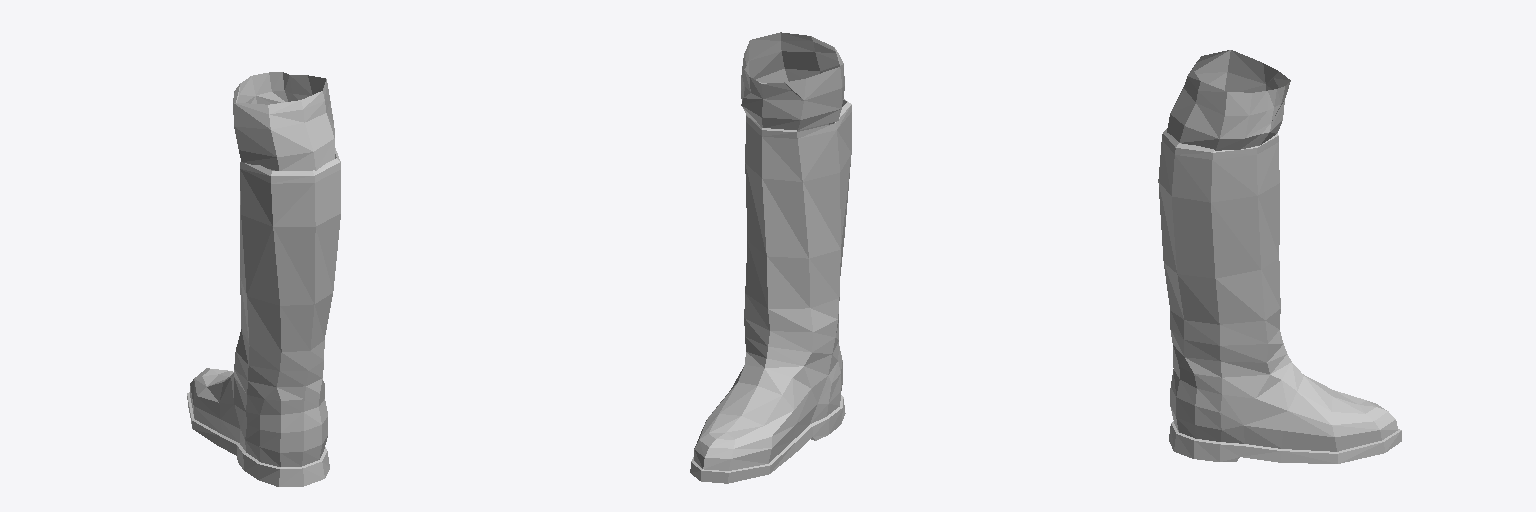
The model's file is zDerJames.obj.
3 renders of one model, left to right at view 1: azimuth 30°, elevation 25°; view 2: azimuth 150°, elevation 25°; view 3: azimuth 270°, elevation 25°, orthographic.
Visible parts, largest first — view 1: Pierna_Der.001_James_Mat, R_Knee, R_Ankle, R_Ball; view 2: Pierna_Der.001_James_Mat, R_Ankle, R_Knee, R_Ball; view 3: Pierna_Der.001_James_Mat, R_Ankle, R_Knee, R_Ball.
Boxes of the visible parts, <box> form: Pierna_Der.001_James_Mat: <box>233,72,340,377</box>; R_Knee: <box>234,154,340,486</box>; R_Ankle: <box>192,373,326,486</box>; R_Ball: <box>187,368,233,428</box>; Pierna_Der.001_James_Mat: <box>741,32,851,331</box>; R_Ankle: <box>708,352,845,473</box>; R_Knee: <box>744,100,851,406</box>; R_Ball: <box>690,414,771,483</box>; Pierna_Der.001_James_Mat: <box>1158,50,1290,398</box>; R_Ankle: <box>1194,354,1337,463</box>; R_Knee: <box>1158,134,1286,458</box>; R_Ball: <box>1332,390,1401,463</box>.
Size of the model in its own units: 12.1 by 45.12 by 26.47.